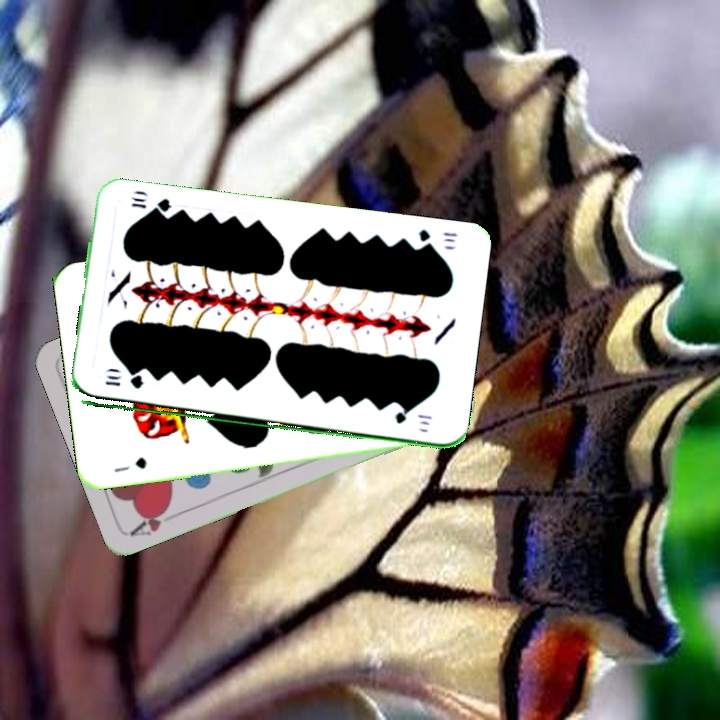G10: (414, 225, 461, 252), (101, 371, 146, 391)
GU: (110, 453, 149, 475)
HA: (127, 501, 183, 539)
